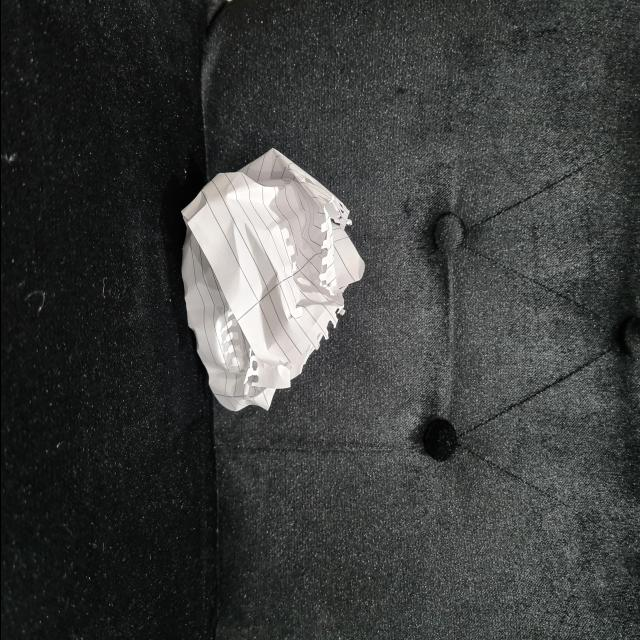kertas: (178, 153, 362, 414)
